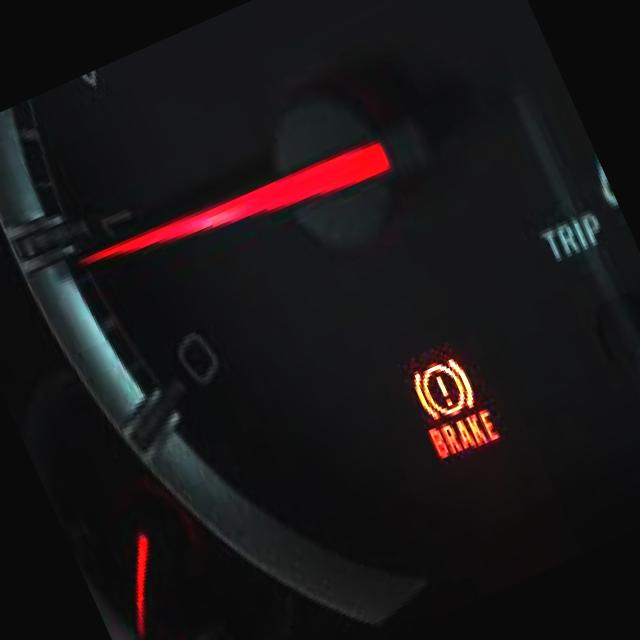kontrolka: (388, 329, 520, 485)
